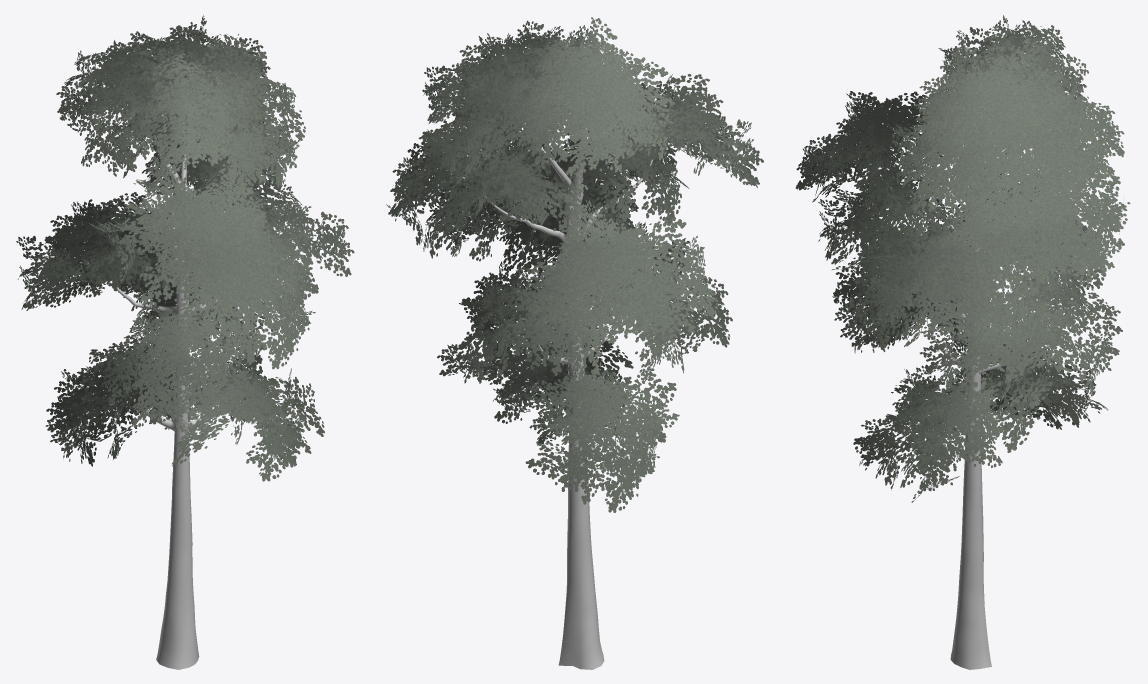
File: SM_Tree_E_02.fbx
3 views of the same model, side by side, from view 1: azimuth 30°, elevation 25°; view 2: azimuth 150°, elevation 25°; view 3: azimuth 270°, elevation 25° (orthographic). The views are drawn at different scales.
Visible parts, largest first — view 1: SM_Tree_E_02_LOD0; view 2: SM_Tree_E_02_LOD0; view 3: SM_Tree_E_02_LOD0.
Boxes of the visible parts, <box> form: SM_Tree_E_02_LOD0: <box>16,15,354,669</box>; SM_Tree_E_02_LOD0: <box>386,17,763,669</box>; SM_Tree_E_02_LOD0: <box>795,15,1130,669</box>.
Size of what is drawn, in the model's own units: 11.08 by 22.53 by 11.05.
